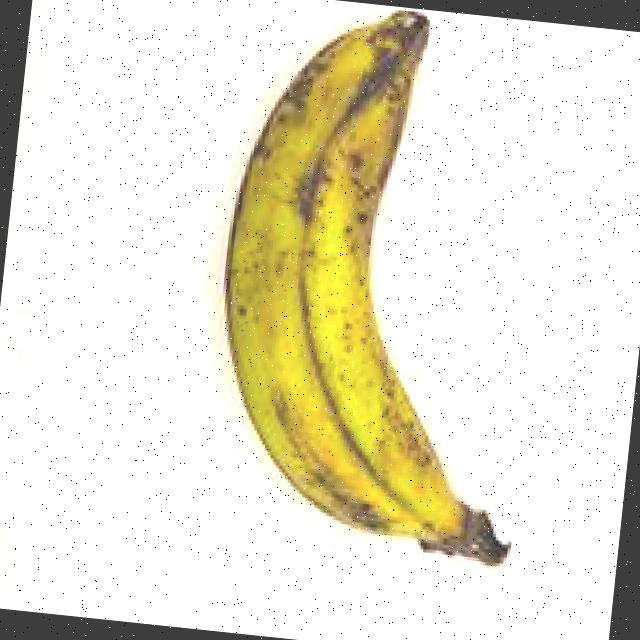Overripe: (157, 0, 598, 583)
